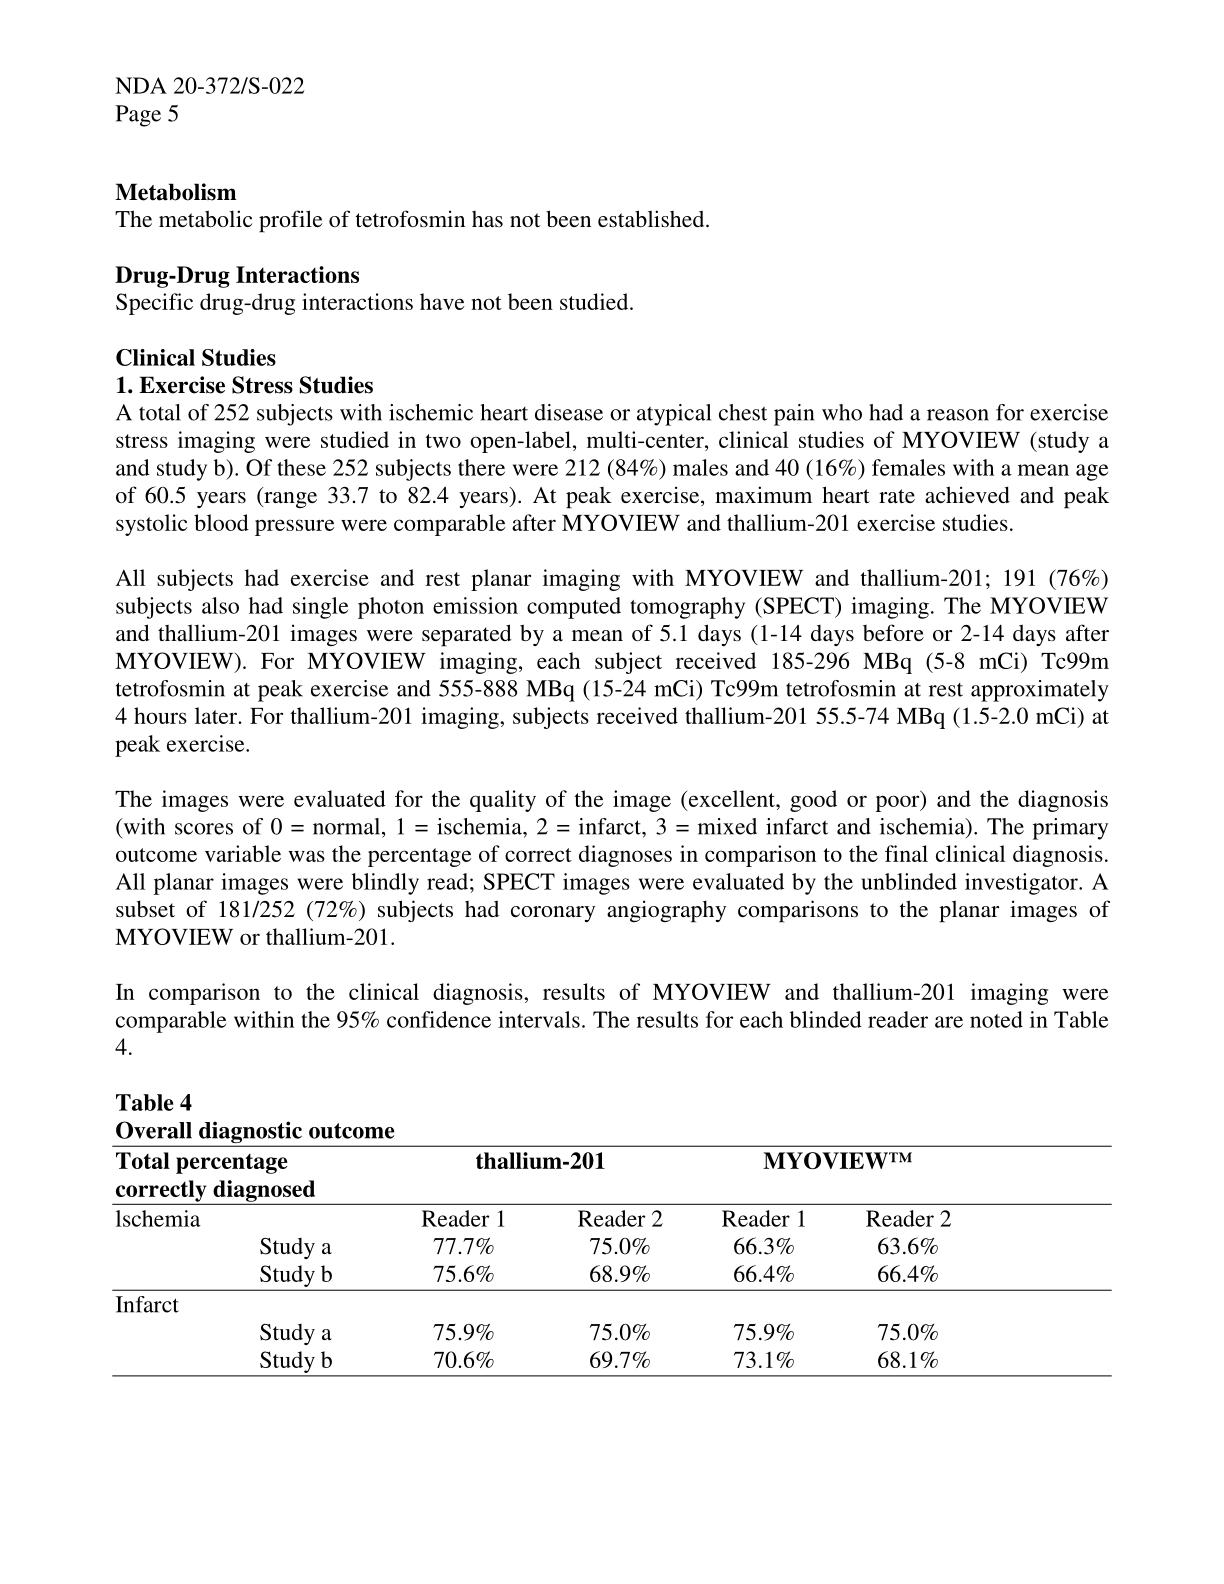partial_lined_merged_cells: (108, 1143, 1119, 1380)
